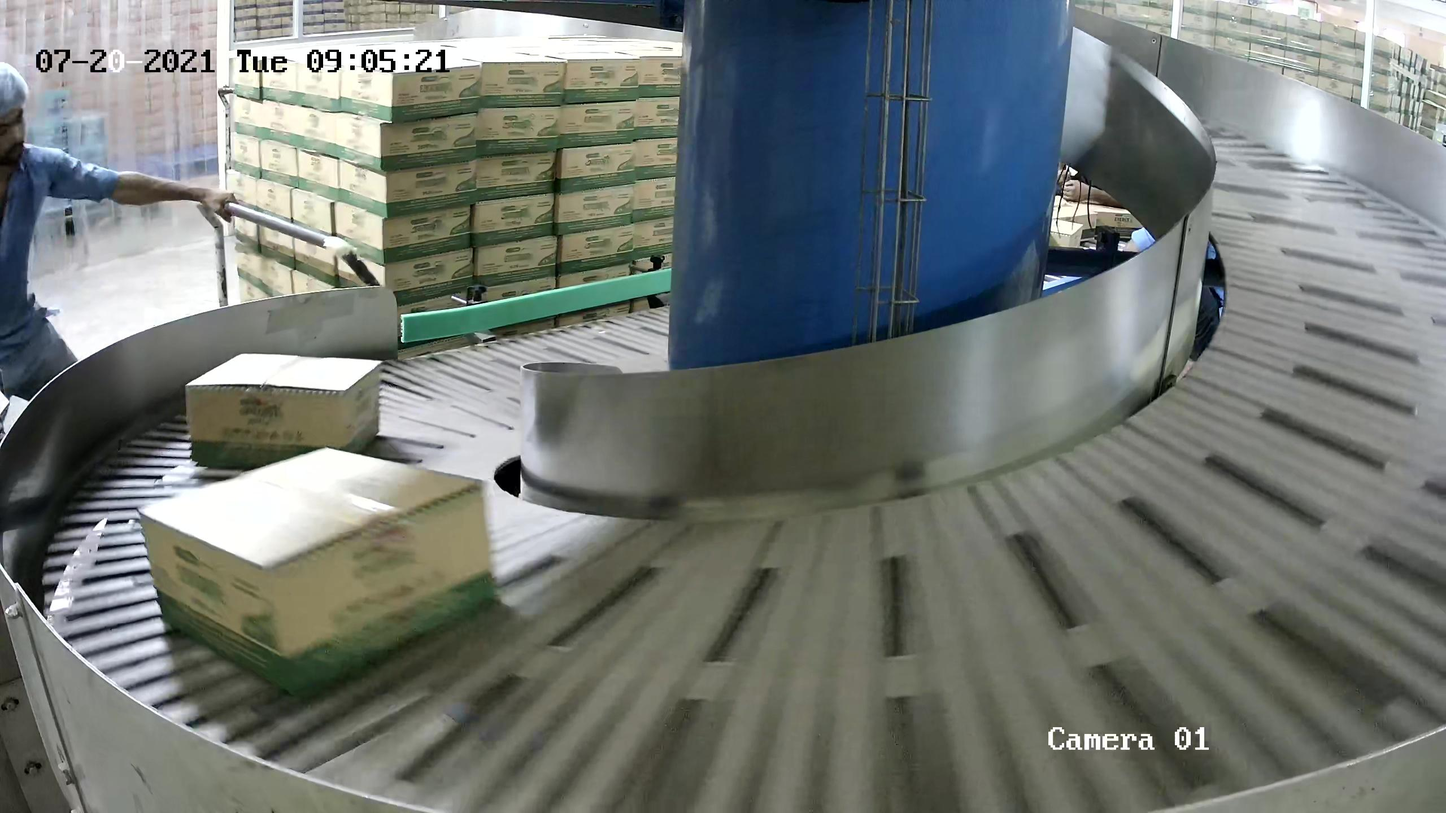Box: (137, 446, 498, 697), (183, 352, 385, 471)
